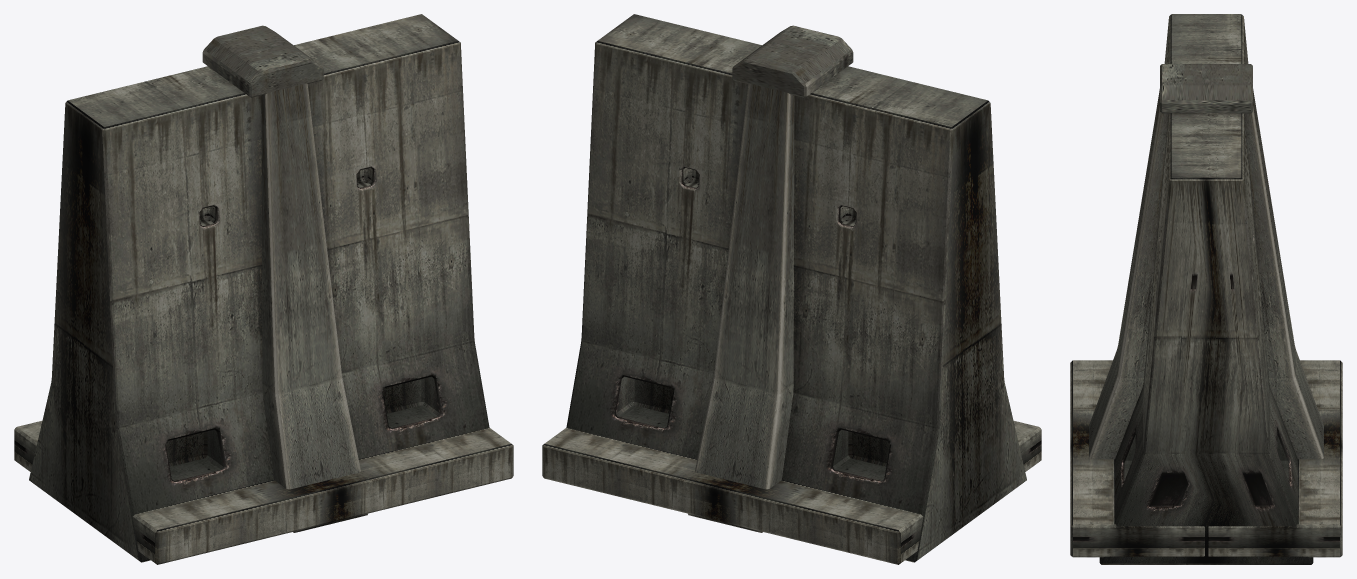
Rendered from static.glb.
3 renders of one model, left to right at view 1: azimuth 30°, elevation 25°; view 2: azimuth 150°, elevation 25°; view 3: azimuth 270°, elevation 25°, orthographic. The views are drawn at different scales.
Visible parts, largest first — view 1: Cube_cuts, Cube, Cube_4, Cube_1; view 2: Cube_cuts, Cube, Cube_4, Cube_1; view 3: Cube_cuts, Cube_4, Cube, Cube_1.
Boxes of the visible parts, <box> form: Cube_cuts: <box>29,14,489,562</box>; Cube: <box>261,83,367,532</box>; Cube_4: <box>14,421,513,564</box>; Cube_1: <box>202,25,323,97</box>; Cube_cuts: <box>566,14,1026,562</box>; Cube: <box>688,83,794,532</box>; Cube_4: <box>542,421,1041,564</box>; Cube_1: <box>732,25,853,97</box>; Cube_cuts: <box>1099,14,1313,564</box>; Cube_4: <box>1070,360,1342,557</box>; Cube: <box>1089,89,1323,459</box>; Cube_1: <box>1160,64,1252,113</box>.
Bounding box in the file's own units: 2.01 × 2.29 × 1.39.
Materials: 2 (2 with a texture image).
